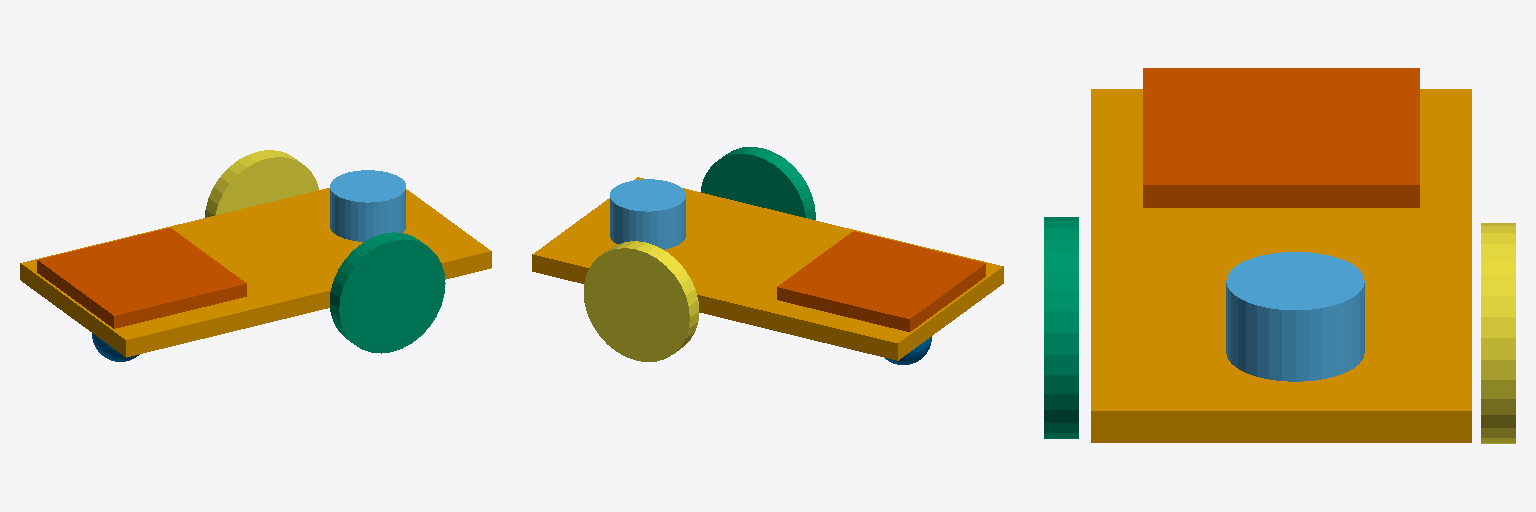
URDF robot description (mobile_robot):
<robot name="mobile_robot">
  <!--<link name="base_footprint"></link>
  <joint name="base_joint" type="fixed">
    <parent link="base_footprint" />
    <child link="base_link" />
    <origin xyz="-0.05656728130107069 0.20694419100877182 0.5" rpy="0 0 0" />
  </joint> -->
  <link name="base_footprint">
    <visual>
      <origin xyz="0 0 0" rpy="0 0 0" />
      <geometry>
        <box size="0.22 0.11 0.01" />
      </geometry>
      <!--<material name="base_link-material">
        <color rgba="0.033104766565152086 0.46778379610254284 0.12477181755144427 1" />
      </material>-->
    </visual>
    <collision>
      <origin xyz="0 0 0" rpy="0 0 0" />
      <geometry>
        <box size="0.22 0.11 0.01" />
      </geometry>
    </collision>
    <inertial>
      <origin xyz="0 0 0" rpy="0 0 0" />
      <mass value="1" />
      <inertia ixx="0.16666666666666666" ixy="0" ixz="0" iyy="0.16666666666666666" iyz="0" izz="0.16666666666666666" />
    </inertial>
  </link>
  <joint name="base_link_to_lidar" type="fixed">
    <parent link="base_footprint" />
    <child link="base_laser" />
    <origin xyz="0.06986067162727368 0.00408591397784569 0.01272105737519193" rpy="0 0 0" />
  </joint>
  <link name="base_laser">
    <visual>
      <origin xyz="0 0 0" rpy="0 0 0" />
      <geometry>
        <cylinder radius="0.02" length="0.03" />
      </geometry>
      <!--
      <material name="lidar-material">
        <color rgba="0 0 0 1" />
      </material>-->
    </visual>
    <collision>
      <origin xyz="0 0 0" rpy="0 0 0" />
      <geometry>
        <cylinder radius="0.02" length="0.03" />
      </geometry>
    </collision>
    <inertial>
      <origin xyz="0 0 0" rpy="0 0 0" />
      <mass value="1" />
      <inertia ixx="0.3333333333333333" ixy="0" ixz="0" iyy="0.5" iyz="0" izz="0.3333333333333333" />
    </inertial>
  </link>
  <joint name="base_link_to_wheel_right" type="fixed">
    <parent link="base_footprint" />
    <child link="wheel_right" />
    <origin xyz="0.0426152091725569 -0.06332031957510047 0" rpy="1.5707963267948963 0 0" />
    <!--<axis xyz="0 0 1"/>-->
  </joint>
  <link name="wheel_right">
    <visual>
      <origin xyz="0 0 0" rpy="0 0 0" />
      <geometry>
        <cylinder radius="0.032" length="0.01" />
      </geometry>
      <!--
      <material name="wheel_right-material">
        <color rgba="0.6375968739867731 0.04373502925049377 0.008023192982520563 1" />
      </material>-->
    </visual>
    <collision>
      <origin xyz="0 0 0" rpy="0 0 0" />
      <geometry>
        <cylinder radius="0.032" length="0.01" />
      </geometry>
    </collision>
    <inertial>
      <origin xyz="0 0 0" rpy="0 0 0" />
      <mass value="1" />
      <inertia ixx="0.3333333333333333" ixy="0" ixz="0" iyy="0.5" iyz="0" izz="0.3333333333333333" />
    </inertial>
  </link>
  <joint name="base_link_to_wheel_left" type="fixed">
    <parent link="base_footprint" />
    <child link="wheel_left" />
    <origin xyz="0.040044432499384504 0.0625430709639706 -0.0028519977579222755" rpy="1.5707963267948963 0 0" />
    <axis xyz="0 0 1"/>
  </joint>
  <link name="wheel_left">
    <visual>
      <origin xyz="0 0 0" rpy="0 0 0" />
      <geometry>
        <cylinder radius="0.032" length="0.01" />
      </geometry>
      <!--
      <material name="wheel_left-material">
        <color rgba="0.6375968739867731 0.04373502925049377 0.008023192982520563 1" />
      </material>-->
    </visual>
    <collision>
      <origin xyz="0 0 0" rpy="0 0 0" />
      <geometry>
        <cylinder radius="0.032" length="0.01" />
      </geometry>
    </collision>
    <inertial>
      <origin xyz="0 0 0" rpy="0 0 0" />
      <mass value="1" />
      <inertia ixx="0.3333333333333333" ixy="0" ixz="0" iyy="0.5" iyz="0" izz="0.3333333333333333" />
    </inertial>
  </link>
  <joint name="base_link_to_omniwheel" type="fixed">
    <parent link="base_footprint" />
    <child link="omniwheel" />
    <origin xyz="-0.08151645436678397 0 -0.019833524261632485" rpy="0 0 0" />
  </joint>
  <link name="omniwheel">
    <visual>
      <origin xyz="0 0 0" rpy="0 0 0" />
      <geometry>
        <sphere radius="0.015" />
      </geometry>
      <!--
      <material name="omniwheel-material">
        <color rgba="0.14702726648767014 0.10461648408208657 0.4969329950515914 1" />
      </material>-->
    </visual>
    <collision>
      <origin xyz="0 0 0" rpy="0 0 0" />
      <geometry>
        <sphere radius="0.015" />
      </geometry>
    </collision>
    <inertial>
      <origin xyz="0 0 0" rpy="0 0 0" />
      <mass value="1" />
      <inertia ixx="0.4" ixy="0" ixz="0" iyy="0.4" iyz="0" izz="0.4" />
    </inertial>
  </link>
  <joint name="base_link_to_Raspberry" type="fixed">
    <parent link="base_footprint" />
    <child link="Raspberry" />
    <origin xyz="-0.0684529754364332 0.00007999849359541233 0.007494221284821023" rpy="0 0 0" />
  </joint>
  <link name="Raspberry">
    <visual>
      <origin xyz="0 0 0" rpy="0 0 0" />
      <geometry>
        <box size="0.08 0.08 0.01" />
      </geometry>
      <!--
      <material name="Raspberry-material">
        <color rgba="0.2874408377161099 0.9559733532482866 0.913098651791473 1" />
      </material>-->
    </visual>
    <collision>
      <origin xyz="0 0 0" rpy="0 0 0" />
      <geometry>
        <box size="0.08 0.08 0.01" />
      </geometry>
    </collision>
    <inertial>
      <origin xyz="0 0 0" rpy="0 0 0" />
      <mass value="1" />
      <inertia ixx="0.16666666666666666" ixy="0" ixz="0" iyy="0.16666666666666666" iyz="0" izz="0.16666666666666666" />
    </inertial>
  </link>
</robot>

--- What the picture shows (computed from the rendered views, not written in the file) ---
The picture shows the robot from 3 angles, left to right: view 1: azimuth 30°, elevation 25°; view 2: azimuth 150°, elevation 25°; view 3: azimuth 270°, elevation 25°; orthographic projection.
Robot: mobile_robot — 6 links, 5 joints (5 fixed); root link base_footprint; default pose: all joints at 0.
Visible links, largest first — view 1: base_footprint, Raspberry, wheel_right, base_laser, wheel_left; view 2: base_footprint, Raspberry, wheel_left, wheel_right, base_laser; view 3: base_footprint, Raspberry, base_laser, wheel_right, wheel_left.
Boxes of the visible links, x1,y1,x2,y2 form: base_footprint: (20, 188, 491, 357); Raspberry: (37, 228, 246, 328); wheel_right: (330, 232, 445, 353); base_laser: (330, 170, 405, 241); wheel_left: (205, 150, 318, 217); base_footprint: (532, 177, 1003, 360); Raspberry: (777, 231, 985, 331); wheel_left: (584, 241, 698, 361); wheel_right: (701, 147, 815, 219); base_laser: (610, 179, 685, 249); base_footprint: (1091, 89, 1471, 442); Raspberry: (1143, 68, 1419, 207); base_laser: (1226, 252, 1364, 381); wheel_right: (1044, 217, 1078, 438); wheel_left: (1481, 223, 1515, 443).
Bounding box of the posed robot: 0.22 × 0.1359 × 0.0669 m (x, y, z).
Geometry: primitives only (box / cylinder / sphere), no mesh files.